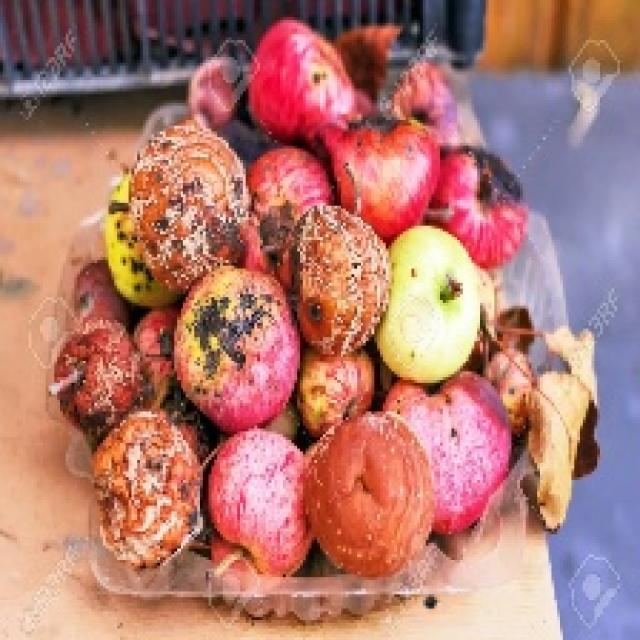rotten_apple: (308, 418, 434, 568), (127, 125, 242, 277), (173, 272, 293, 416), (97, 415, 196, 566), (290, 207, 386, 348), (430, 374, 508, 528), (330, 114, 441, 213), (447, 148, 527, 263), (56, 324, 135, 414), (299, 355, 374, 423)
